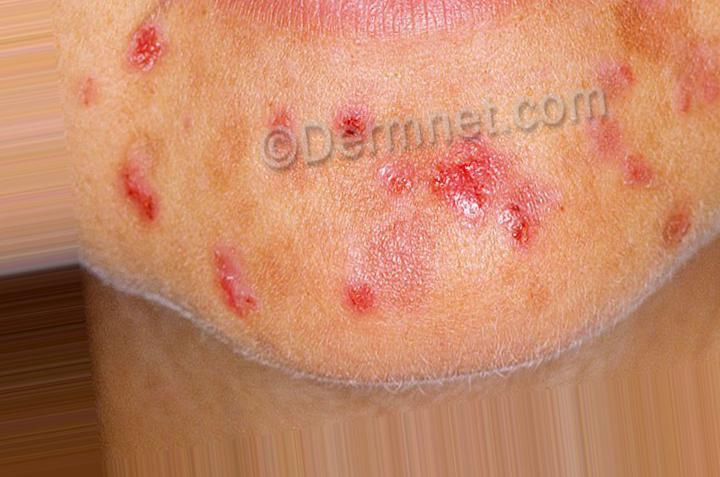Acne: (433, 148, 497, 211), (209, 245, 257, 316), (498, 193, 549, 254), (119, 153, 161, 222), (123, 24, 178, 73), (663, 210, 711, 255), (335, 273, 382, 316), (615, 160, 670, 195), (668, 78, 707, 120), (336, 109, 372, 153), (263, 106, 302, 146), (383, 162, 421, 201), (585, 120, 625, 154), (603, 63, 637, 101)
